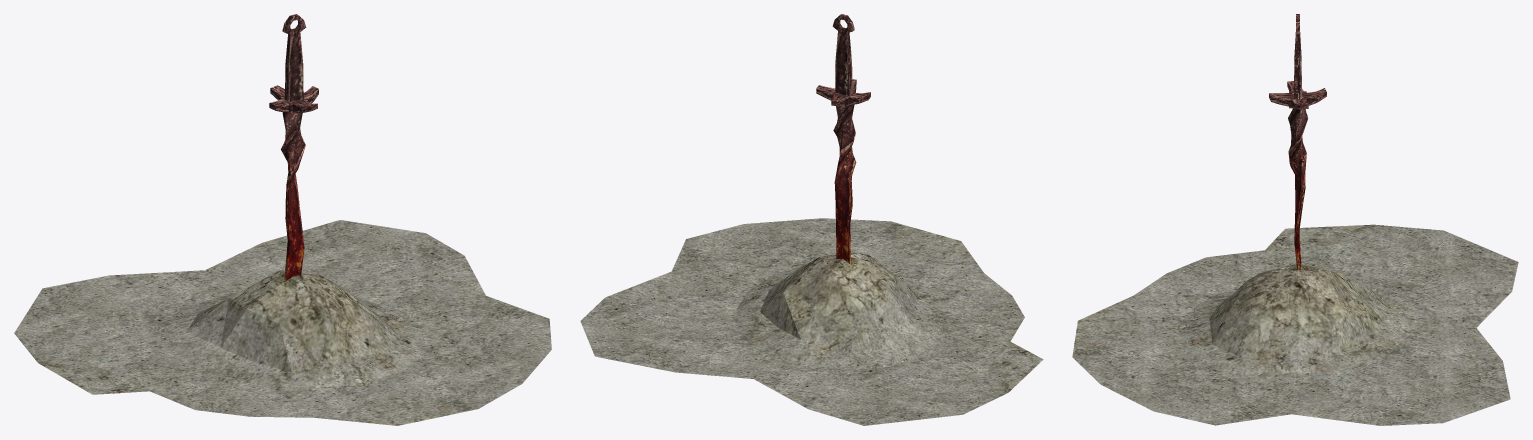
The model's file is bonfire.dae.
The picture shows the model from 3 angles, left to right: view 1: azimuth 30°, elevation 25°; view 2: azimuth 150°, elevation 25°; view 3: azimuth 270°, elevation 25°; orthographic projection. The views are drawn at different scales.
Parts seen in each view (by area): view 1: mesh3; view 2: mesh3; view 3: mesh3.
Part boxes in pixels (<box>): mesh3: <box>14,14,551,425</box>; mesh3: <box>580,14,1043,425</box>; mesh3: <box>1072,14,1518,425</box>.
Bounding box in the file's own units: 3.28 × 3.07 × 2.36.
Materials: 2 (2 with a texture image).
